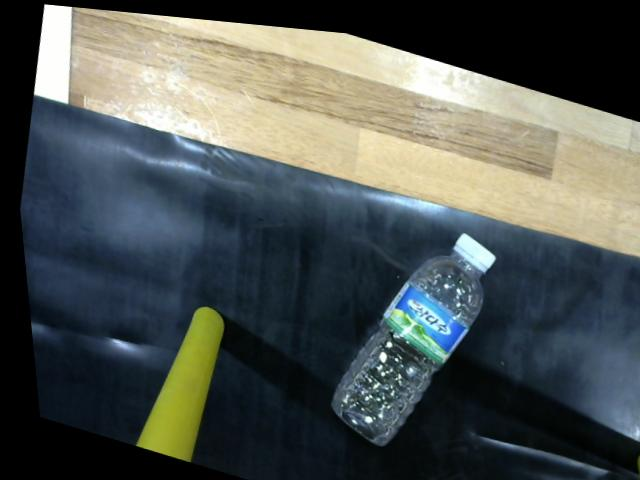bottle: (319, 214, 501, 444)
